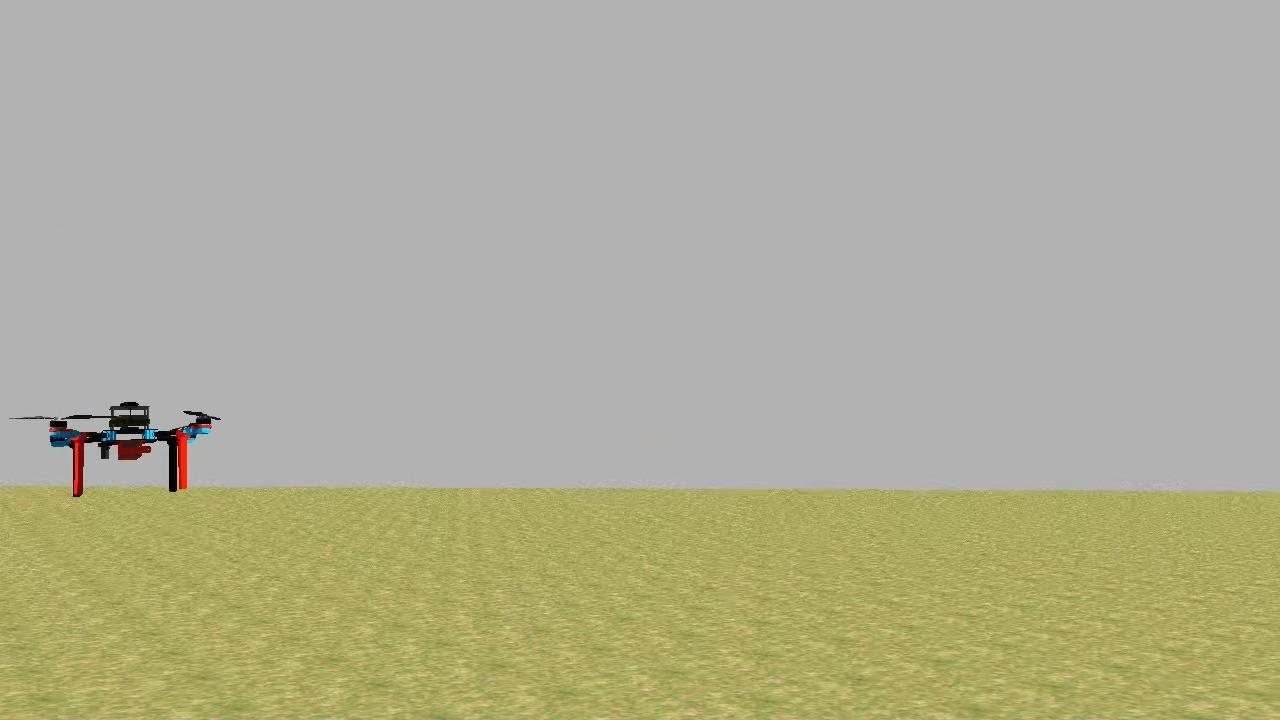UAV: (42, 394, 220, 502)
